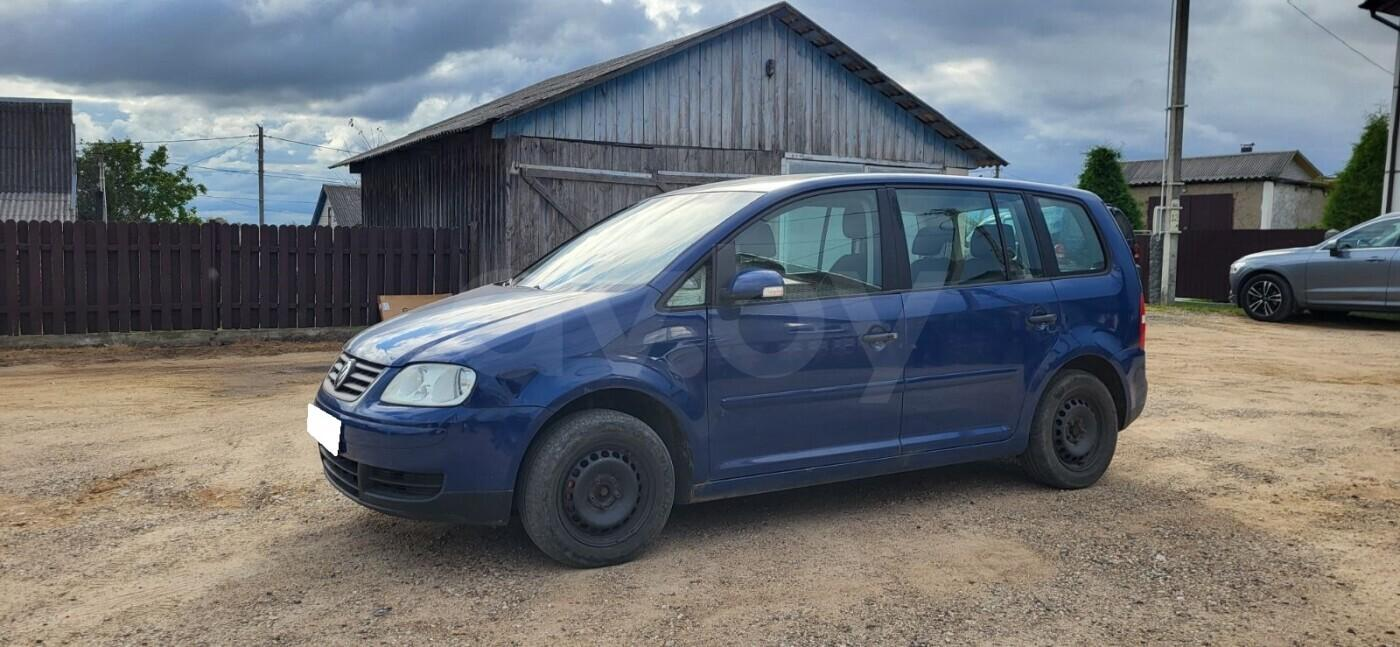Touran_2003-2006: (303, 164, 1144, 547)
